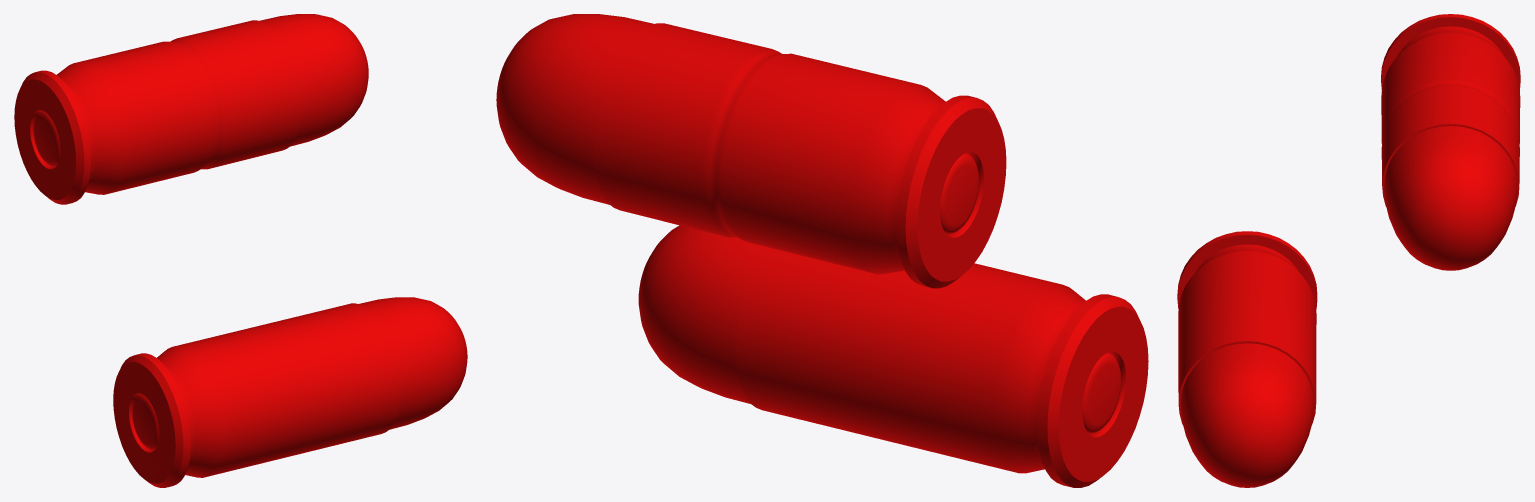
The model's file is Bullets_45_ACP.fbx.
The picture shows the model from 3 angles, left to right: view 1: azimuth 30°, elevation 25°; view 2: azimuth 150°, elevation 25°; view 3: azimuth 270°, elevation 25°; orthographic projection. The views are drawn at different scales.
Parts seen in each view (by area): view 1: Bullet_case_Low, Bullet_case2_Low, Main_bullet2_Low, Main_bullet_Low, Back_part2_Low, Back_part_Low; view 2: Bullet_case2_Low, Bullet_case_Low, Main_bullet2_Low, Main_bullet_Low, Back_part_Low, Back_part2_Low; view 3: Bullet_case_Low, Bullet_case2_Low, Main_bullet2_Low, Main_bullet_Low.
Boxes of the visible parts, x1,y1,x2,y2 form: Bullet_case_Low: (113, 303, 399, 487); Bullet_case2_Low: (14, 20, 300, 204); Main_bullet2_Low: (259, 14, 368, 146); Main_bullet_Low: (359, 297, 467, 429); Back_part2_Low: (33, 110, 60, 167); Back_part_Low: (132, 394, 159, 450); Bullet_case2_Low: (594, 23, 1006, 288); Bullet_case_Low: (736, 247, 1148, 487); Main_bullet2_Low: (496, 14, 653, 204); Main_bullet_Low: (638, 225, 766, 403); Back_part_Low: (1082, 353, 1121, 433); Back_part2_Low: (940, 153, 978, 234); Bullet_case_Low: (1177, 231, 1317, 425); Bullet_case2_Low: (1381, 14, 1520, 207); Main_bullet2_Low: (1384, 126, 1517, 270); Main_bullet_Low: (1181, 343, 1313, 487).
Bounding box in the file's own units: 3.24 × 3.27 × 2.96.
